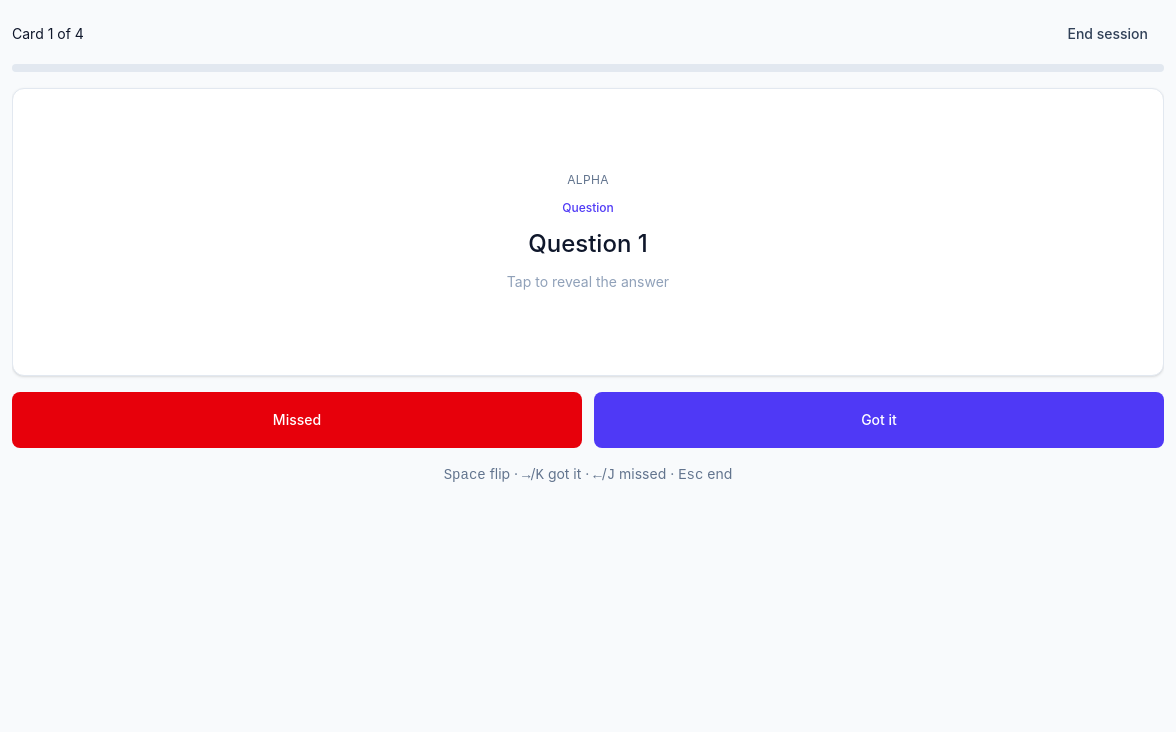
study session › flips on click and flips back
Click the button with test id "flashcard" at (81, 232), box [12,88,1164,376]
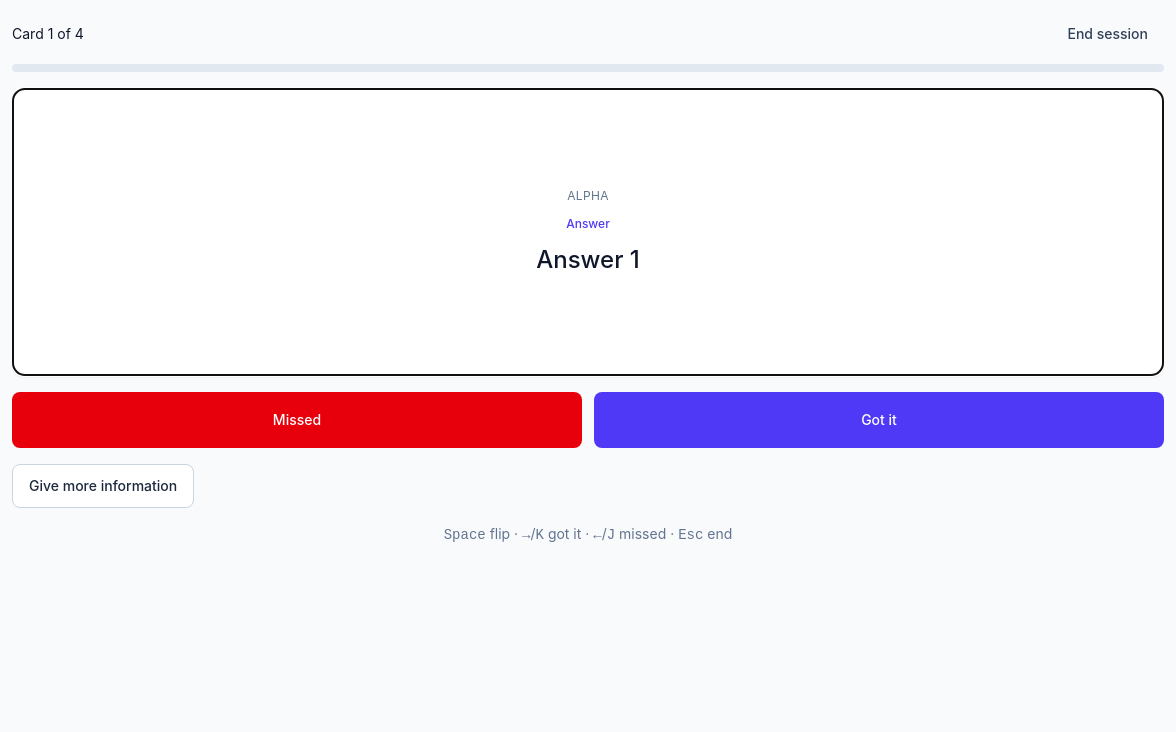
Check: the button with test id "flashcard" shows "Answer 1"
Click the button with test id "flashcard" at (588, 232), box [12,88,1164,376]
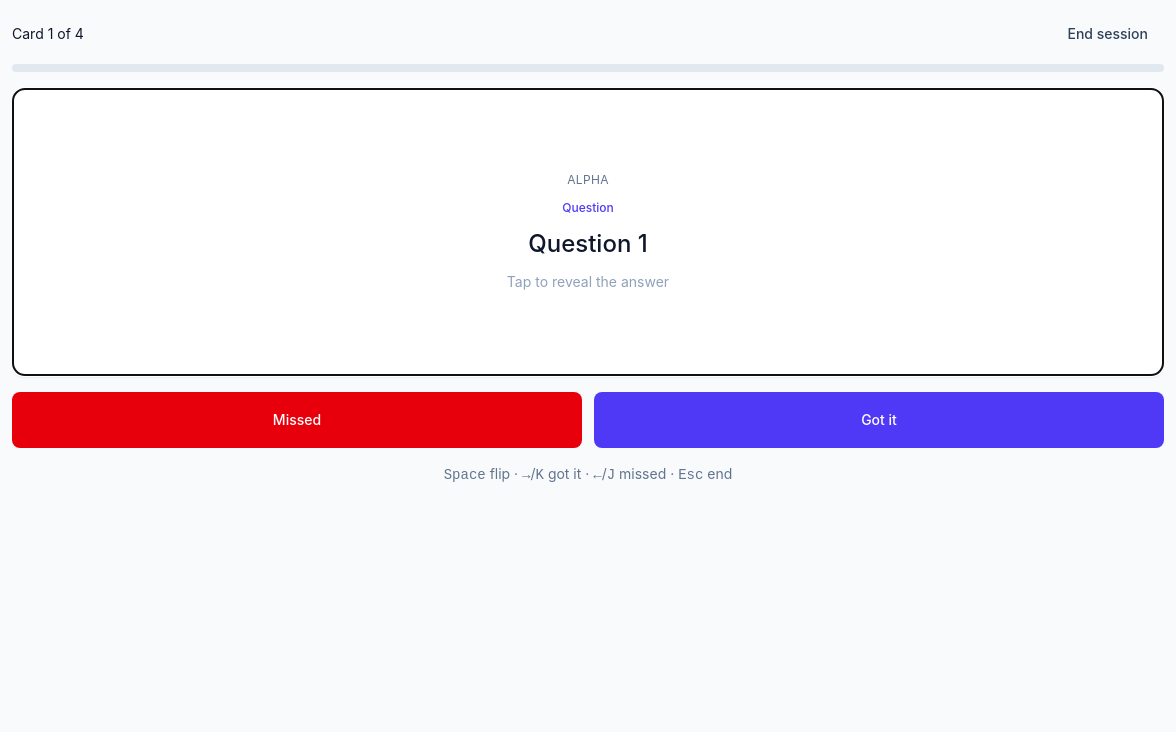
Check: the button with test id "flashcard" shows "Question 1", box [12,88,1164,376]
